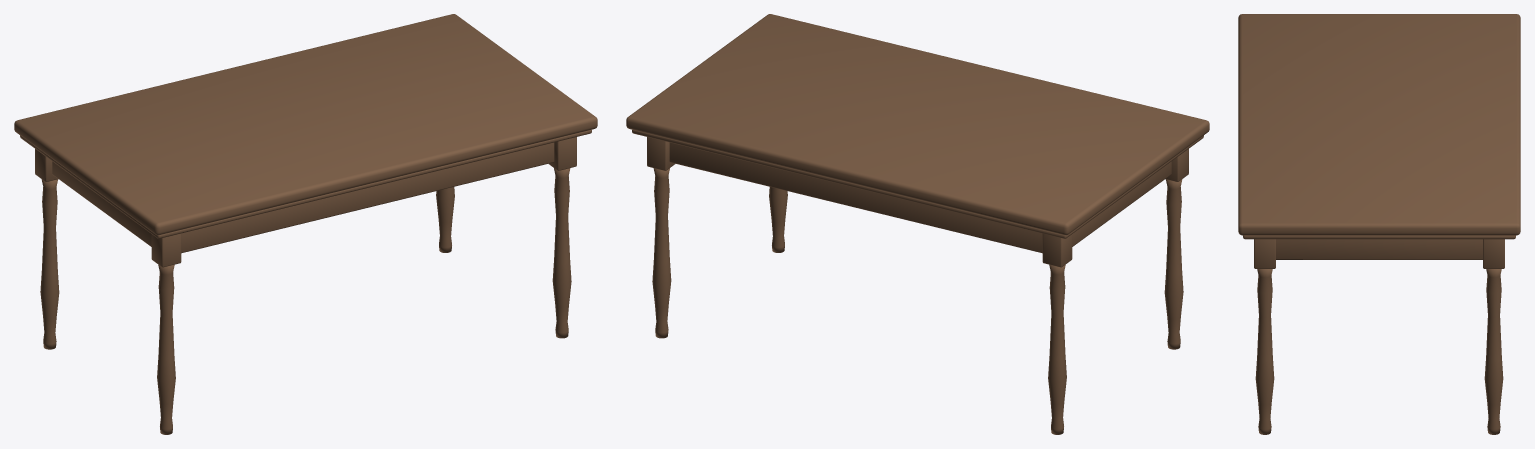
Rendered from fx_reading_table.glb.
The picture shows the model from 3 angles, left to right: view 1: azimuth 30°, elevation 25°; view 2: azimuth 150°, elevation 25°; view 3: azimuth 270°, elevation 25°; orthographic projection.
Visible parts, largest first — view 1: fx_reading_table; view 2: fx_reading_table; view 3: fx_reading_table.
Part boxes in pixels (box(x1,y1,x2,y2)): fx_reading_table: box(14, 14, 597, 434); fx_reading_table: box(626, 14, 1209, 434); fx_reading_table: box(1238, 14, 1520, 434).
Size of the model in its own units: 1.6 by 0.77 by 0.9.
